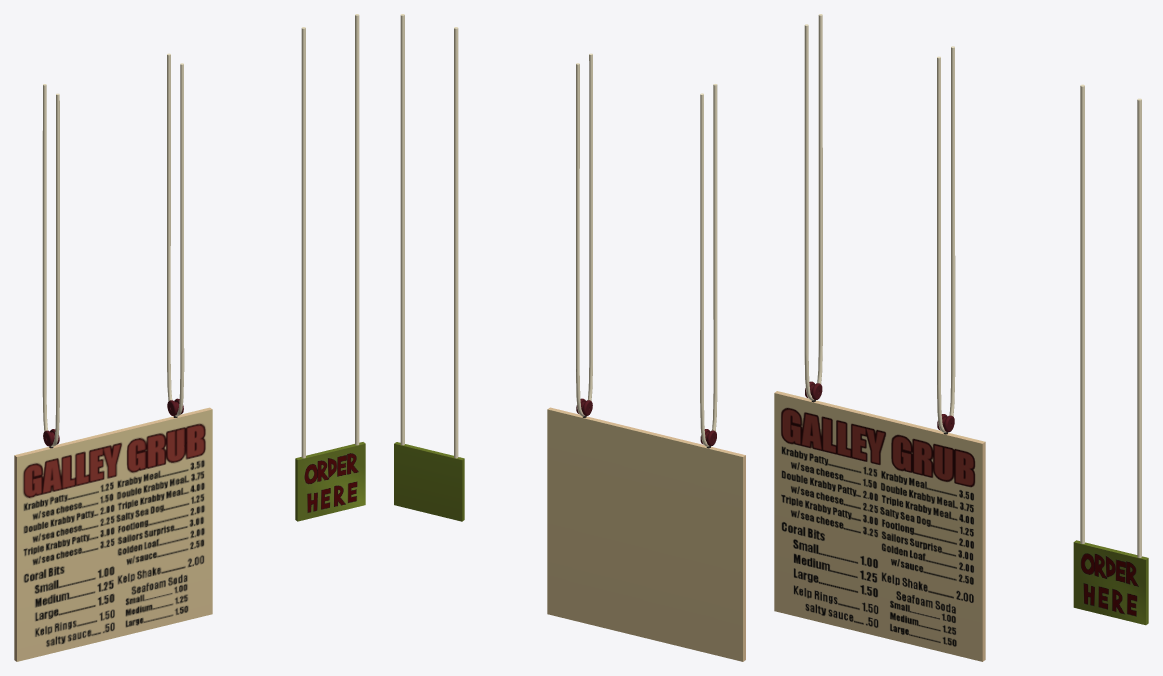
Rendered from Krusty Krab Menu.FBX.
The picture shows the model from 3 angles, left to right: view 1: azimuth 30°, elevation 25°; view 2: azimuth 150°, elevation 25°; view 3: azimuth 330°, elevation 25°; orthographic projection. The views are drawn at different scales.
Visible parts, largest first — view 1: Menu, Order Here; view 2: Menu, Order Here; view 3: Menu, Order Here.
Part boxes in pixels (bbox=[...]): Menu: bbox=[14, 53, 212, 661]; Order Here: bbox=[295, 14, 365, 521]; Menu: bbox=[547, 53, 745, 661]; Order Here: bbox=[394, 14, 464, 521]; Menu: bbox=[774, 14, 985, 661]; Order Here: bbox=[1073, 84, 1148, 625].
Bounding box in the file's own units: 749 × 1154 × 56.94.
Materials: 8 (8 with a texture image).
